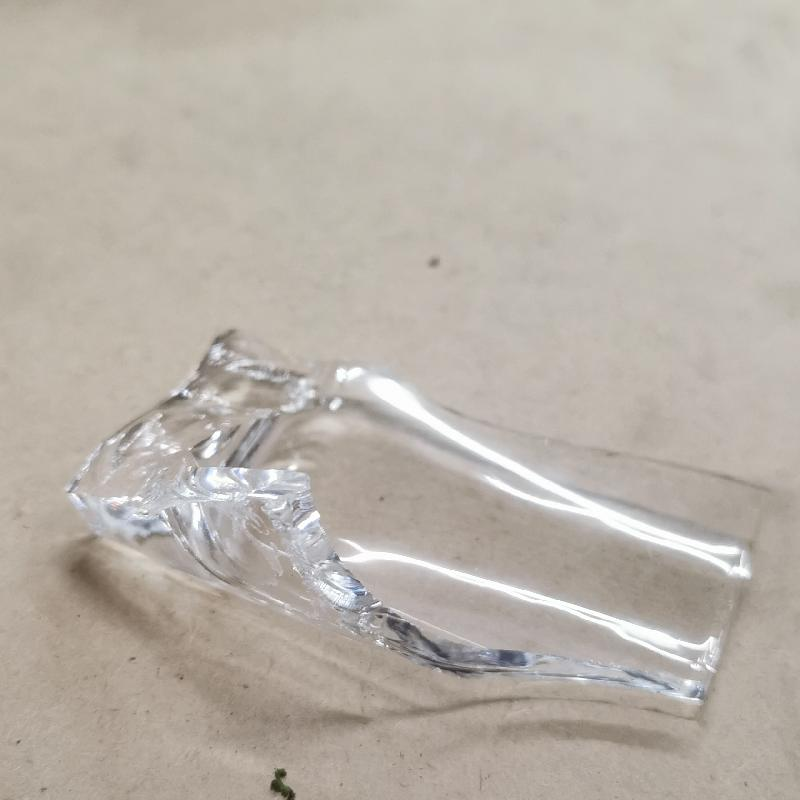glass: (59, 324, 762, 722)
